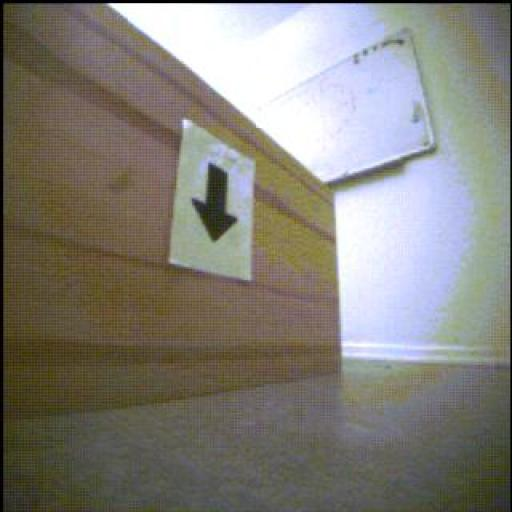Arrow: (193, 164, 238, 243)
